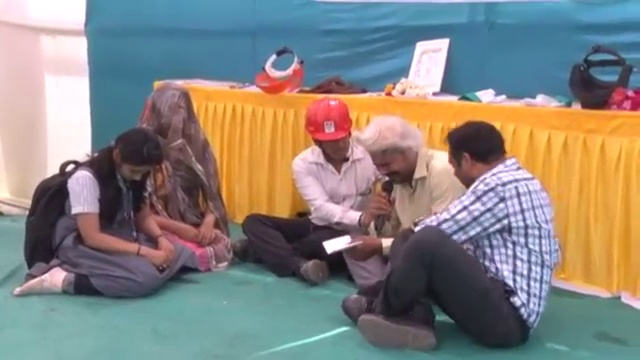helmet: (302, 101, 359, 145)
helmet_off: (437, 125, 516, 186), (365, 118, 427, 190), (101, 129, 164, 185), (145, 85, 197, 149)
helmet_on: (302, 98, 360, 170)
person: (349, 123, 563, 351), (12, 123, 194, 303), (236, 86, 381, 285), (344, 119, 471, 286), (132, 76, 228, 271)
